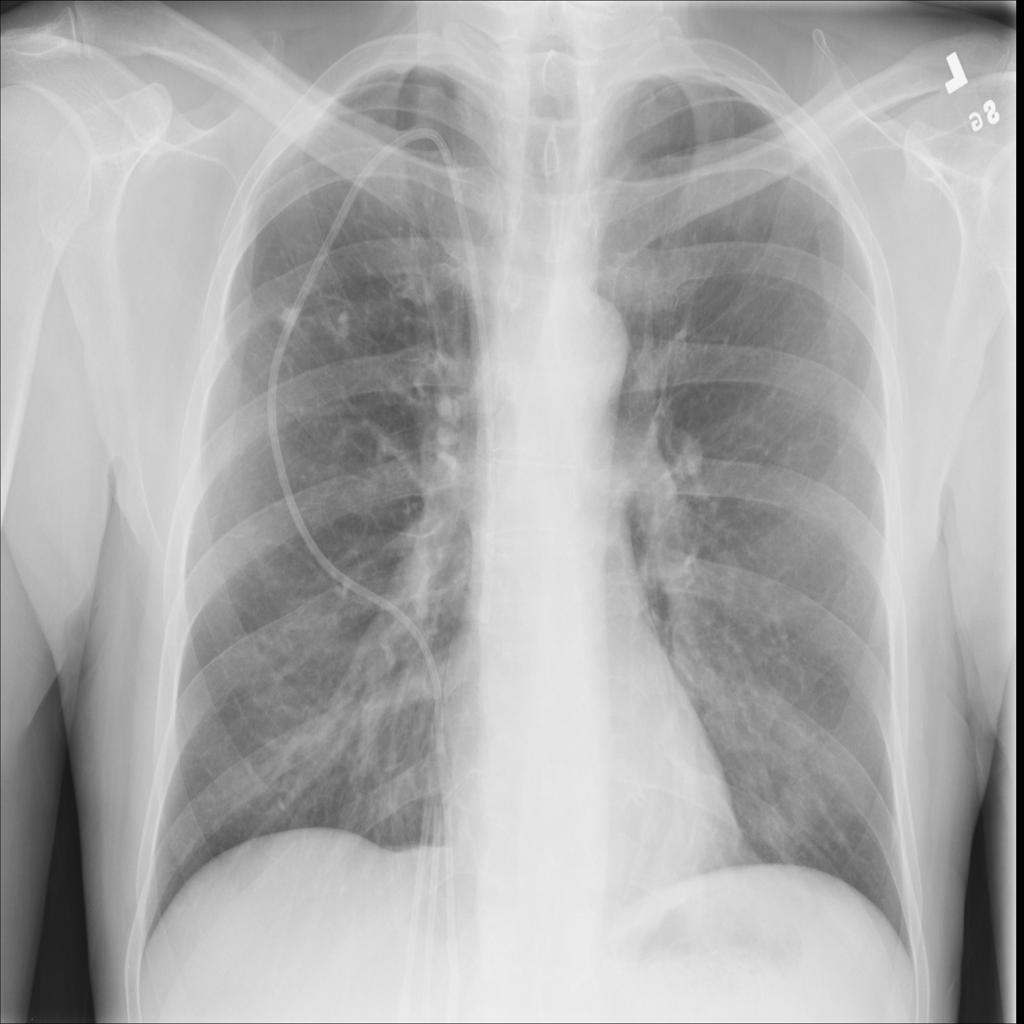nodule: (259, 277, 325, 350), (324, 291, 366, 353)
